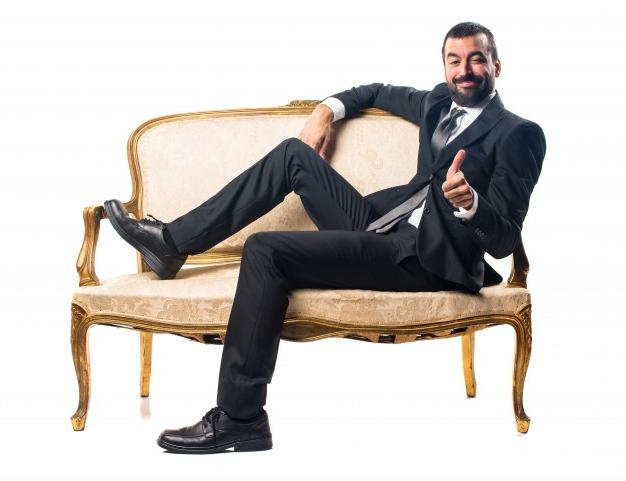thumbsup: (442, 149, 472, 208)
